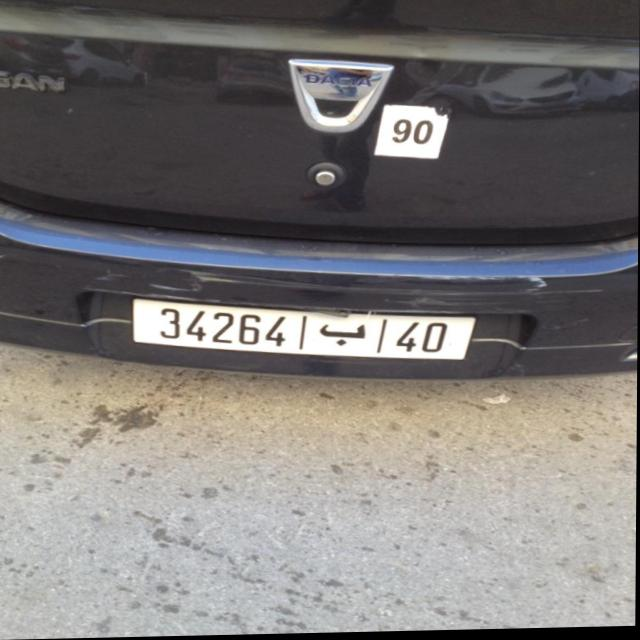License-Plate: (133, 299, 476, 361)
